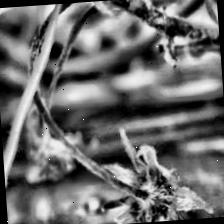Gray Mold: (85, 120, 213, 224)
